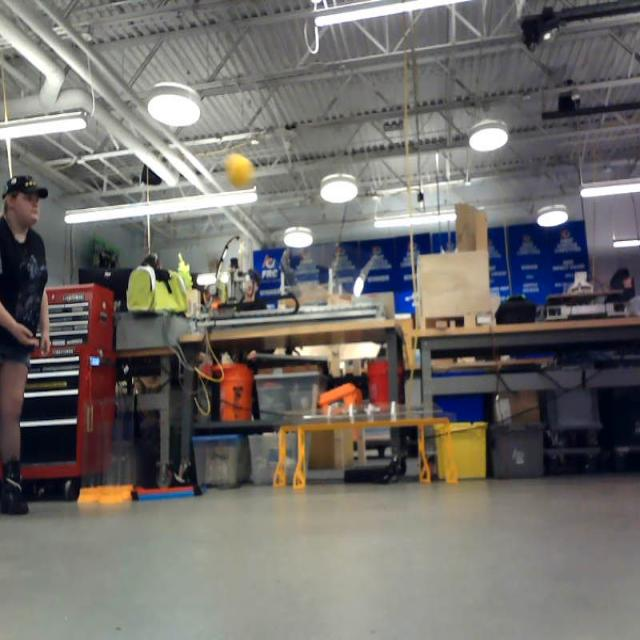Fuel: (230, 156, 251, 186)
